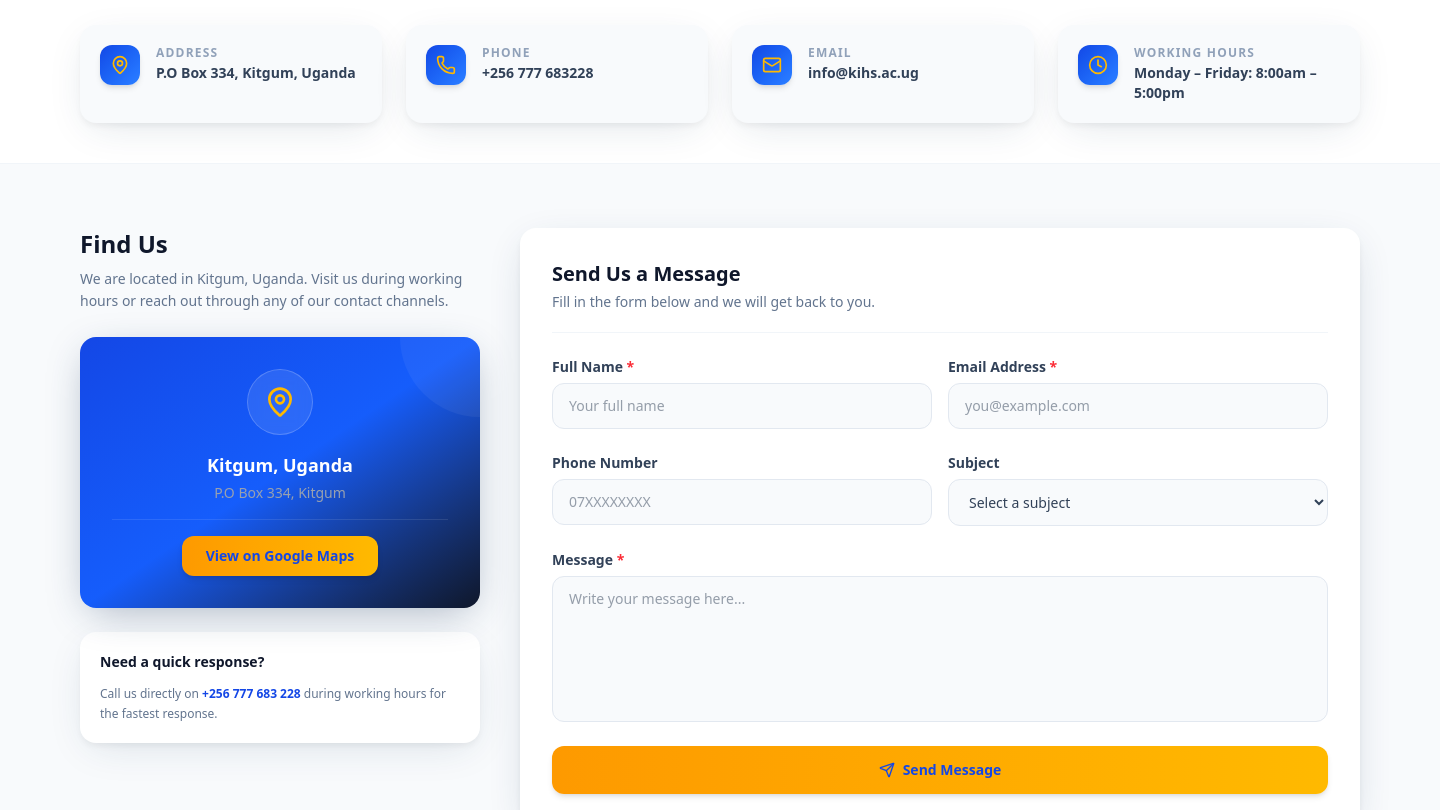
Scenario: Contact page › shows success screen after valid form submission
The width and height of the screenshot is (1440, 810).
(page scrolled)
Type "John Doe" into the field with placeholder "Your full name" at coordinates (742, 406), box top-left (552, 383), bottom-right (932, 429)
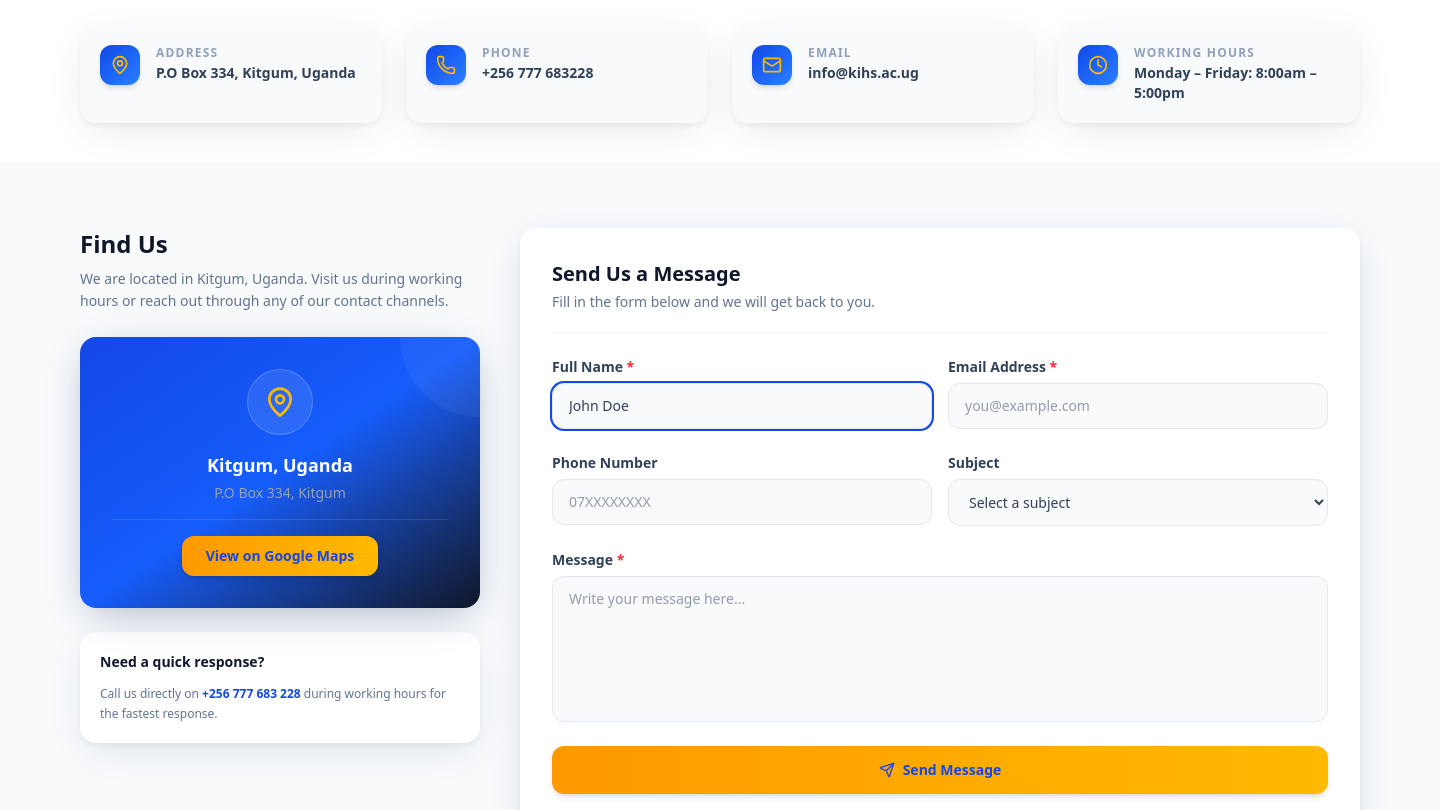
Type "john@example.com" into the field with placeholder "you@example.com" at coordinates (1138, 406), box top-left (948, 383), bottom-right (1328, 429)
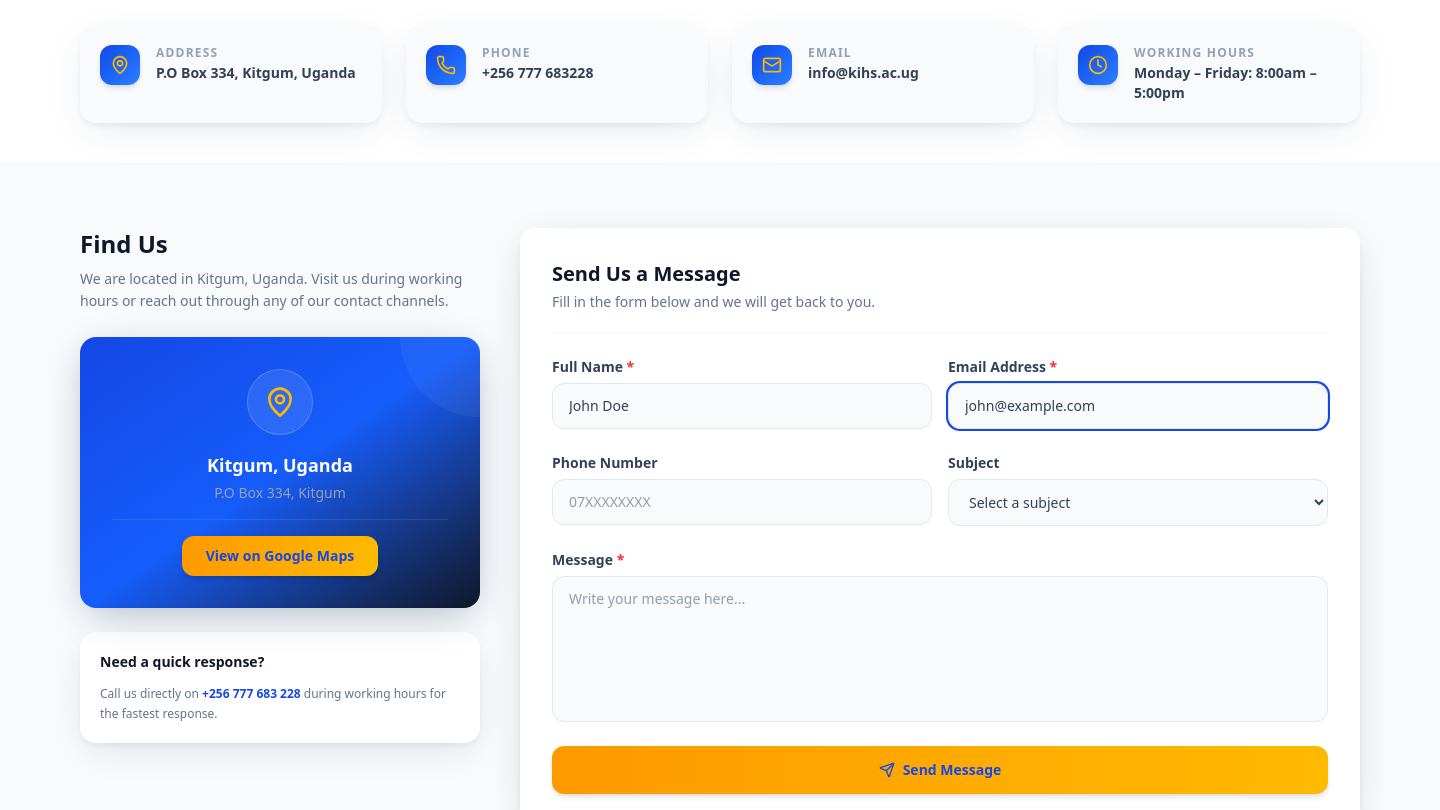
Type "I need more information about courses" into the text box with placeholder "Write your message here..." at coordinates (940, 649), box top-left (552, 576), bottom-right (1328, 722)
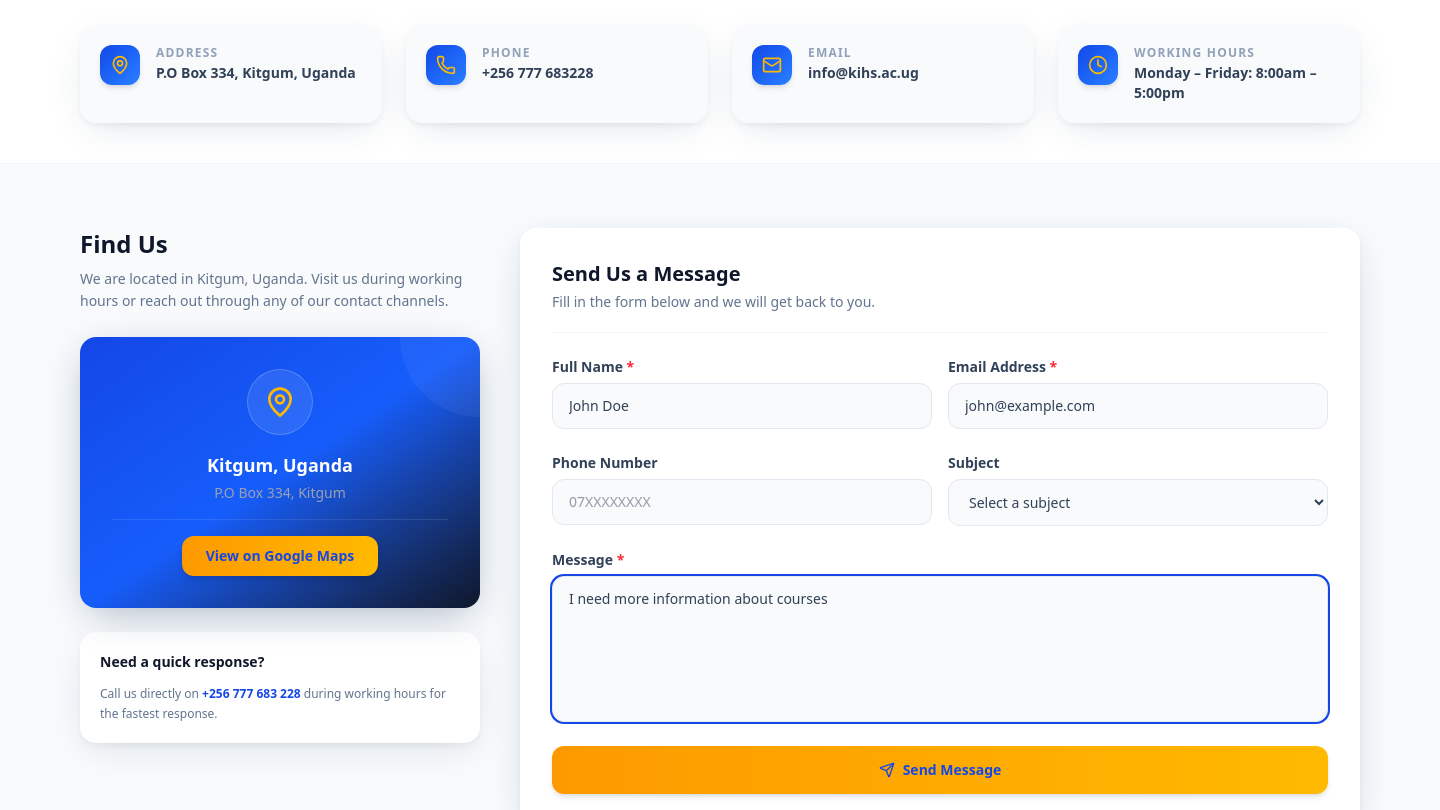
Click the button "Send Message" at coordinates (940, 770), box top-left (552, 746), bottom-right (1328, 794)
(page scrolled)
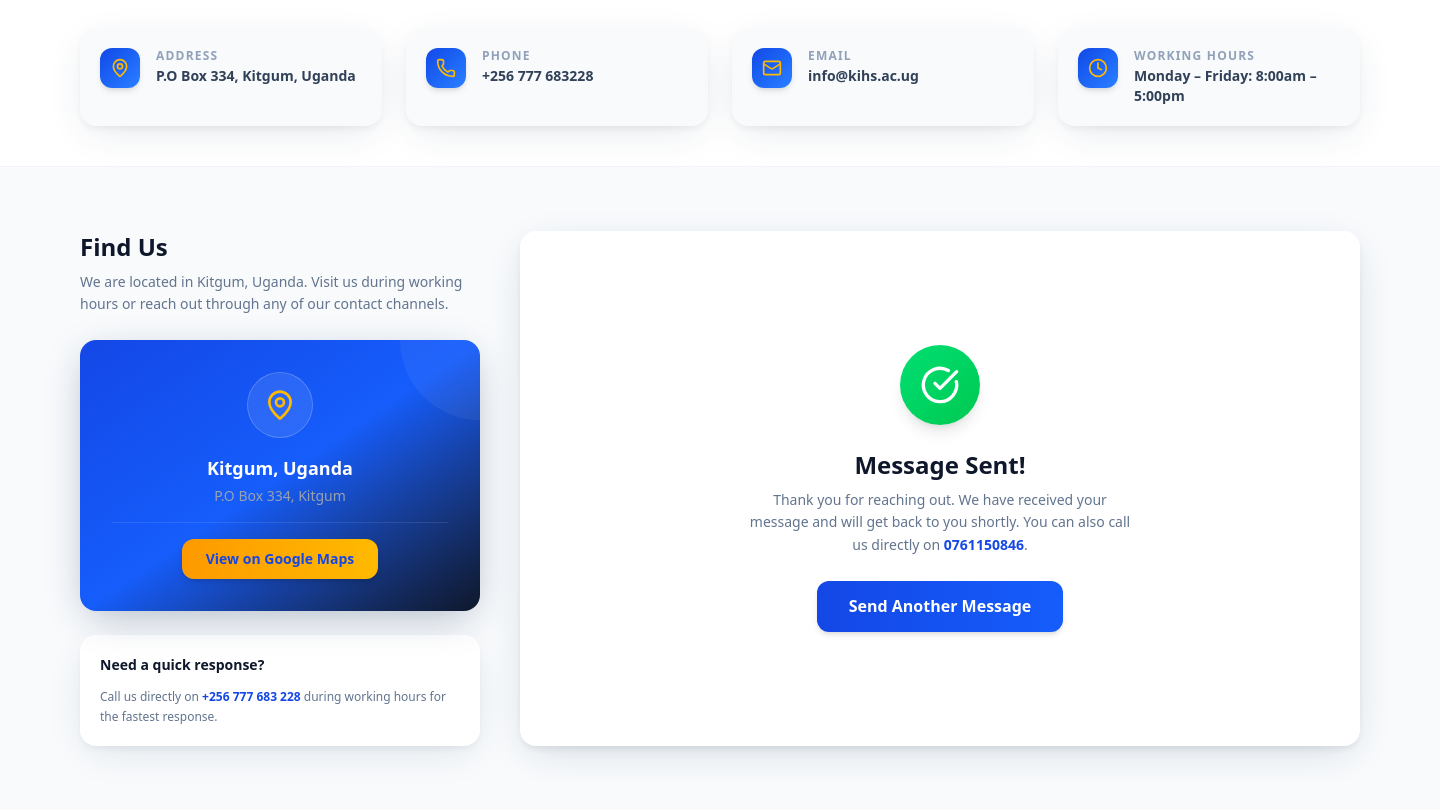
Now the heading "Message Sent!" is shown, box top-left (854, 448), bottom-right (1026, 481)
